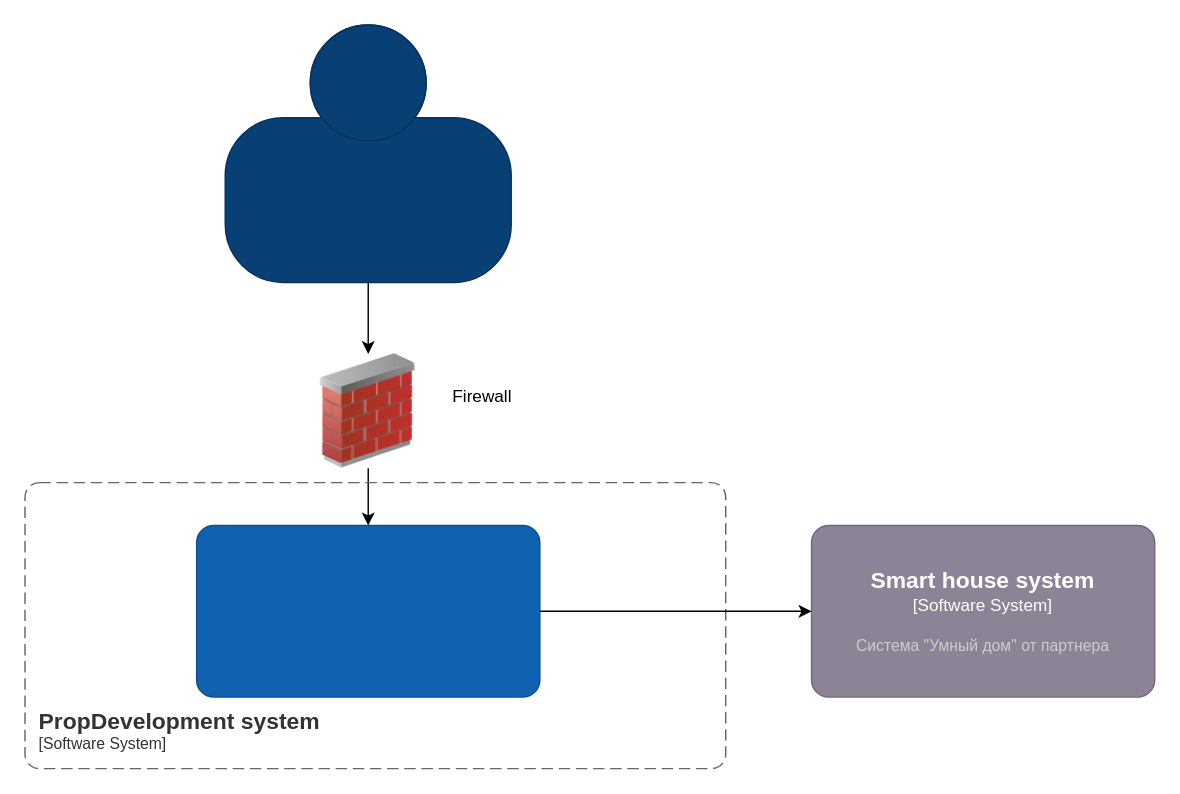
This 1180x794 diagram has some shape labels left out. The centre of each missing label's shape, as x and y in pixels:
"PropDevelopment owner system [Software System] Система собственника" goes at [367,610].
"Собственник [Person] Клиент" goes at [367,153].
